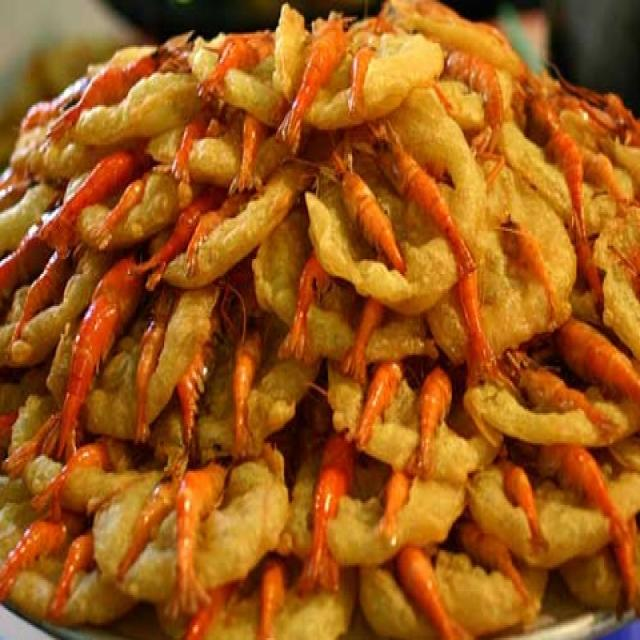炸货点心: (9, 9, 630, 625)
熟制海鲜: (9, 9, 630, 625)
